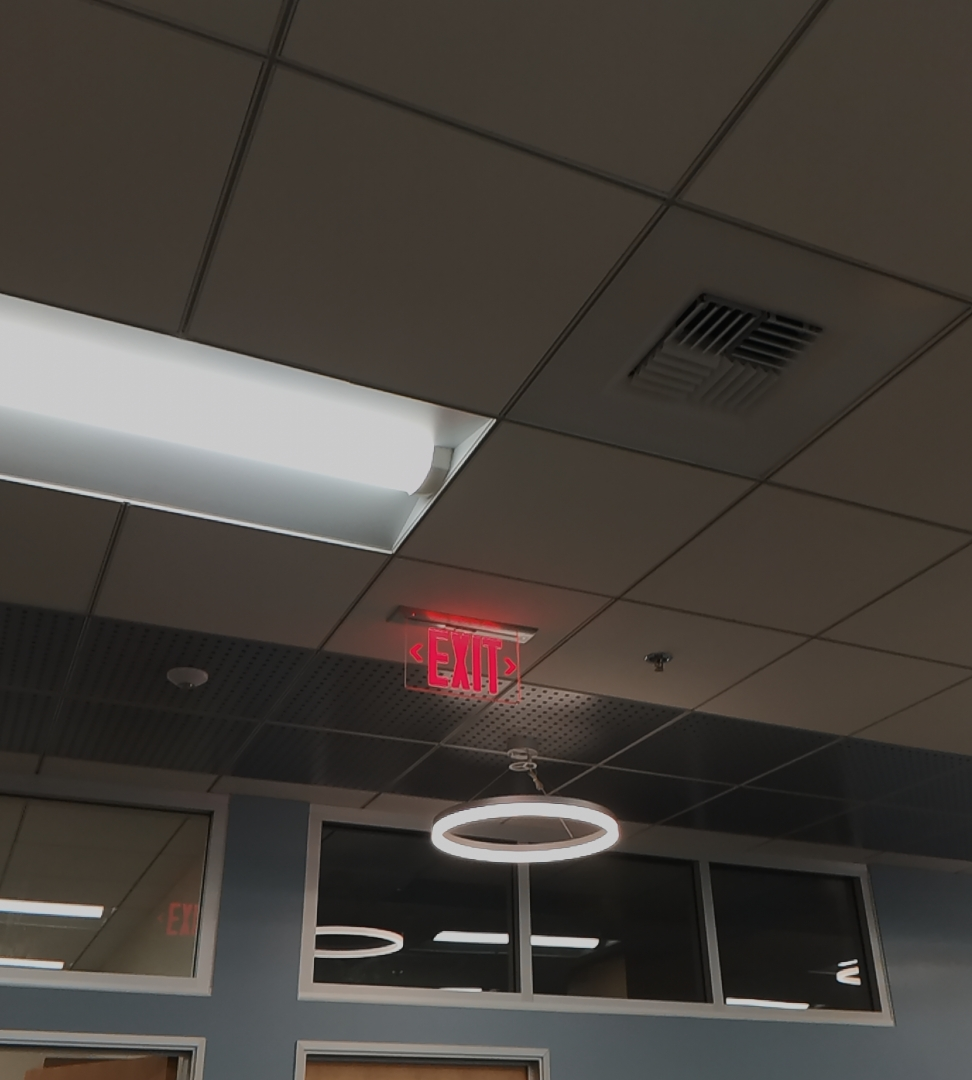emergency_exit: (399, 620, 525, 704)
